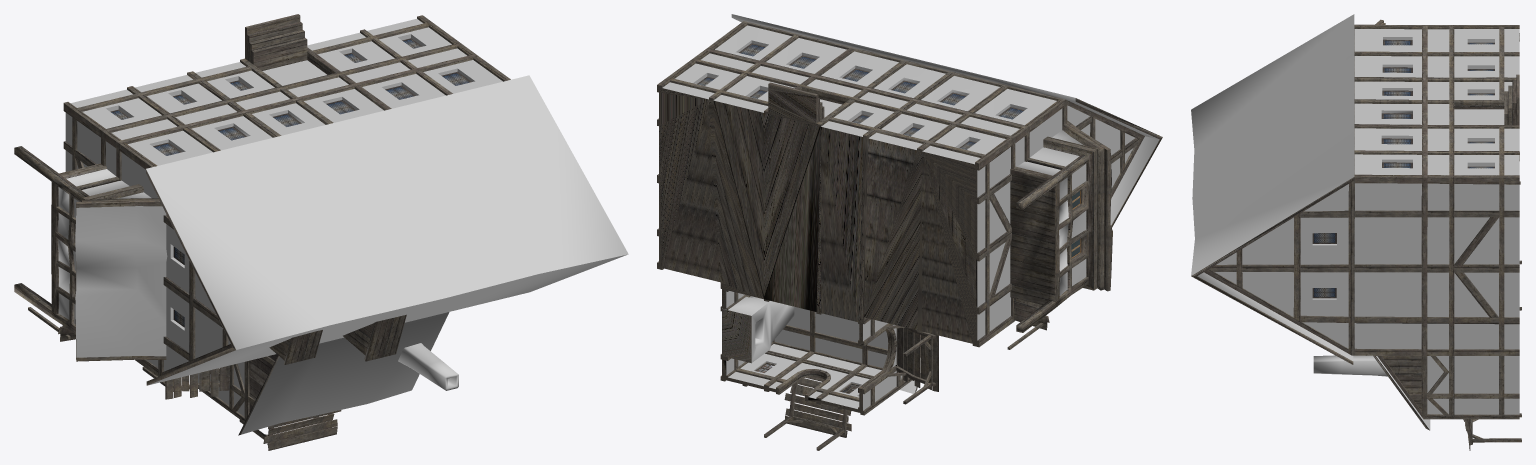
The model's file is blacksmith_house.fbx.
3 views of the same model, side by side, from view 1: azimuth 30°, elevation 25°; view 2: azimuth 150°, elevation 25°; view 3: azimuth 270°, elevation 25° (orthographic). The views are drawn at different scales.
Parts seen in each view (by area): view 1: object; view 2: object; view 3: object.
Part boxes in pixels (x1,y1,x2,y2): object: (14, 14, 628, 450); object: (657, 14, 1162, 450); object: (1191, 14, 1521, 450).
Size of the model in its own units: 645 by 556 by 477.
